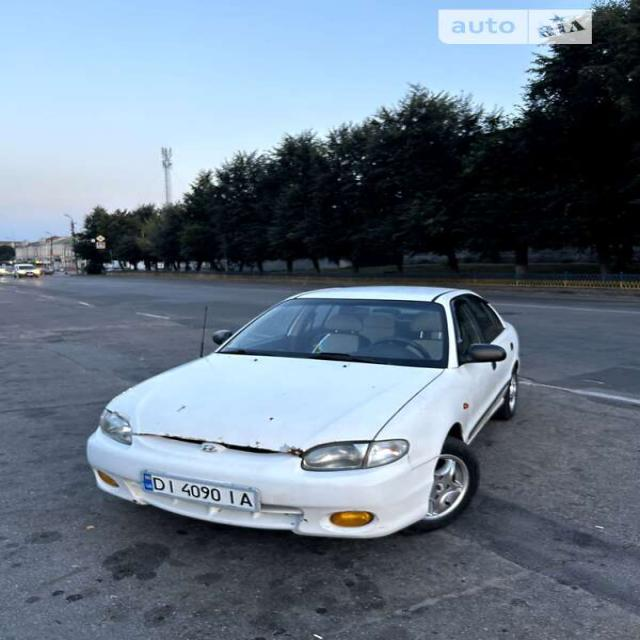plate: (135, 459, 264, 527)
